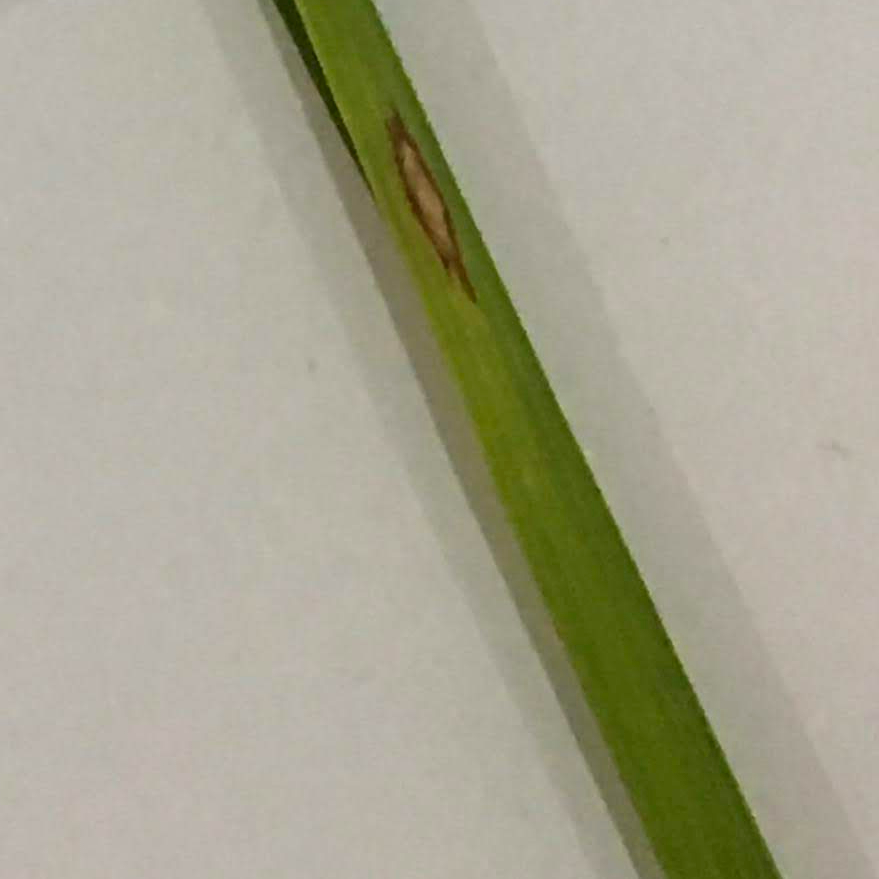leaf blast: (271, 2, 786, 879)
